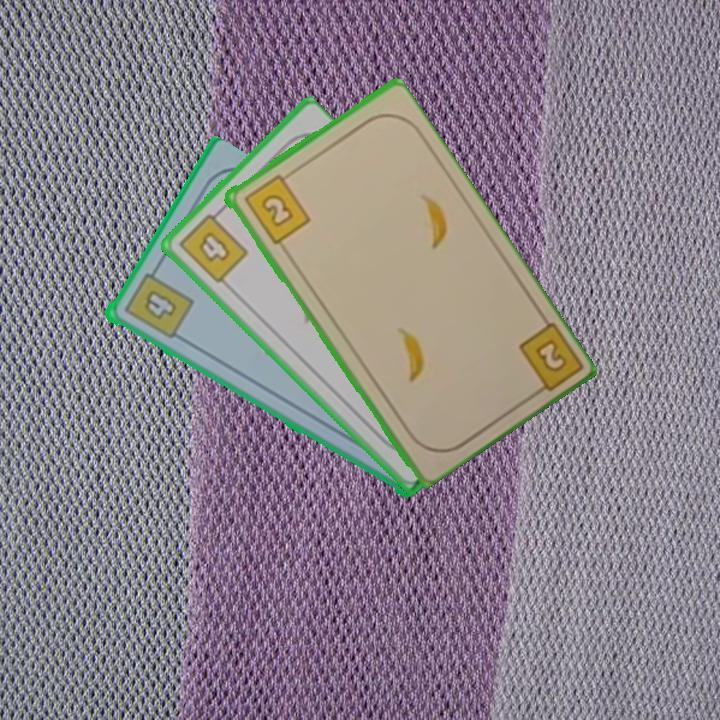2b: (514, 317, 583, 401), (240, 168, 313, 247)
4b: (175, 205, 251, 287), (119, 263, 196, 342)
